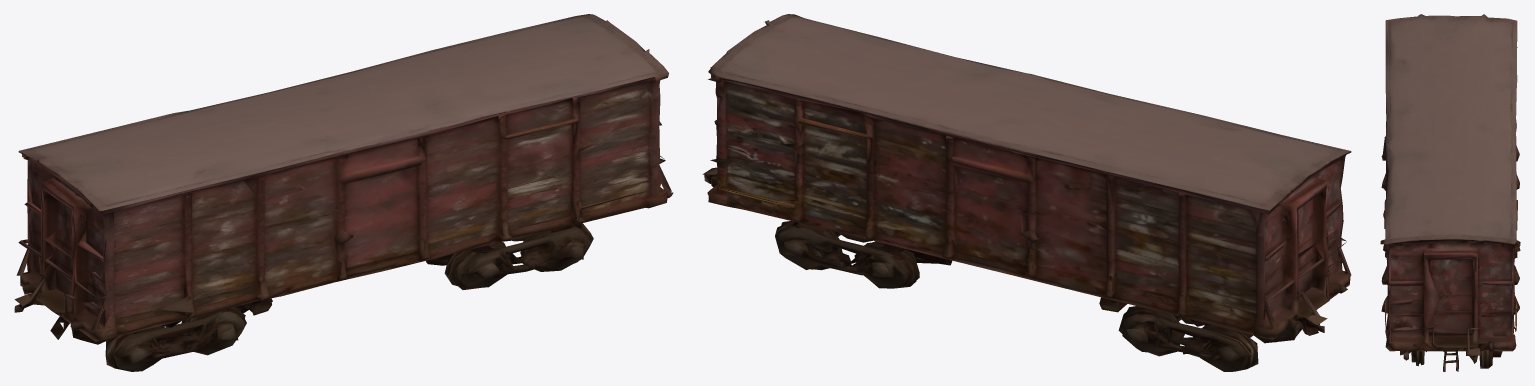
File: boxcar.glb
3 renders of one model, left to right at view 1: azimuth 30°, elevation 25°; view 2: azimuth 150°, elevation 25°; view 3: azimuth 270°, elevation 25°, orthographic. The views are drawn at different scales.
Parts seen in each view (by area): view 1: boxcar; view 2: boxcar; view 3: boxcar.
Part boxes in pixels (x1,y1,x2,y2): boxcar: [14, 14, 673, 371]; boxcar: [702, 14, 1351, 371]; boxcar: [1380, 14, 1520, 371].
Size of the model in its own units: 13 by 3.96 by 3.13.
Materials: 1 (1 with a texture image).
